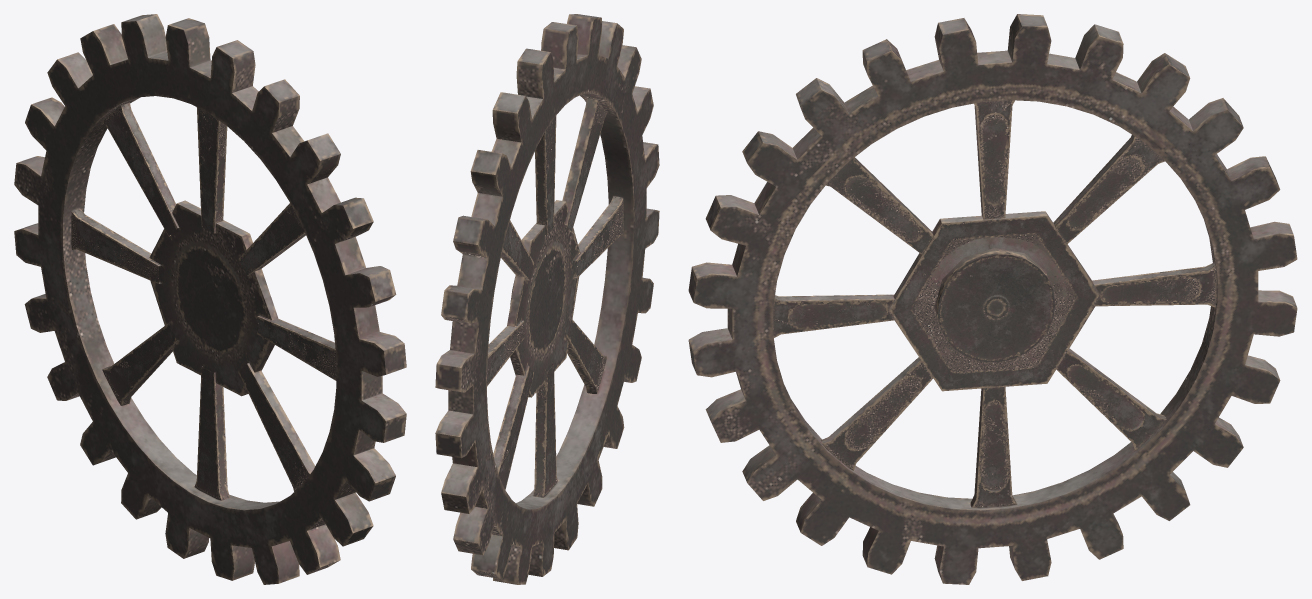
3 views of the same model, side by side, from view 1: azimuth 30°, elevation 25°; view 2: azimuth 150°, elevation 25°; view 3: azimuth 270°, elevation 25° (orthographic). The views are drawn at different scales.
Parts seen in each view (by area): view 1: SM_gearmid001__1_; view 2: SM_gearmid001__1_; view 3: SM_gearmid001__1_.
Boxes of the visible parts, x1=… form: SM_gearmid001__1_: x1=14, y1=14, x2=406, y2=584; SM_gearmid001__1_: x1=435, y1=14, x2=659, y2=584; SM_gearmid001__1_: x1=688, y1=14, x2=1297, y2=584.
Size of the model in its own units: 50.84 by 239 by 237.
